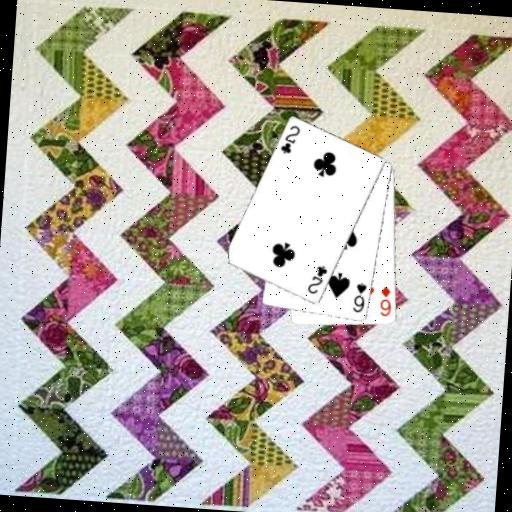2C: (304, 262, 330, 297), (277, 122, 302, 157)
6D: (377, 283, 395, 318)
6S: (350, 280, 369, 315)
